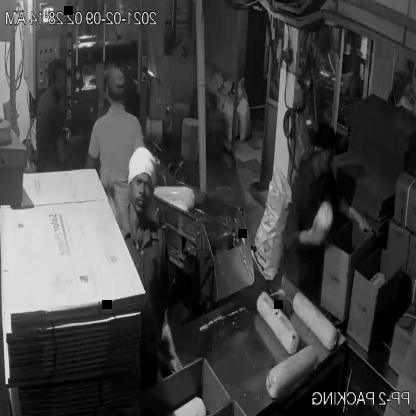glove: (158, 319, 189, 385), (290, 211, 334, 253), (343, 204, 376, 241)
